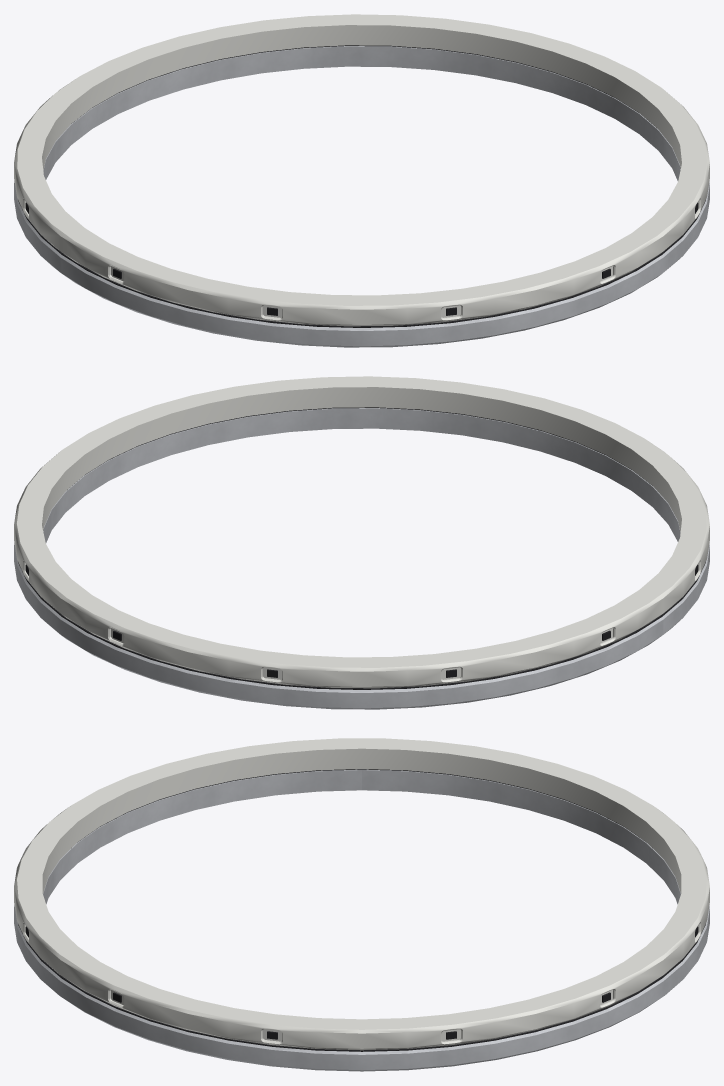
Rendered from ax_struct_06_stack_decoupler_xxl.glb.
3 views of the same model, one above another, from view 1: azimuth 30°, elevation 25°; view 2: azimuth 150°, elevation 25°; view 3: azimuth 270°, elevation 25° (orthographic).
Parts seen in each view (by area): view 1: decoupler_upper_ring, decoupler_lower_ring, separation_plane; view 2: decoupler_upper_ring, decoupler_lower_ring, separation_plane; view 3: decoupler_upper_ring, decoupler_lower_ring, separation_plane.
Part boxes in pixels (x1,y1,x2,y2): decoupler_upper_ring: (14,14,709,326); decoupler_lower_ring: (14,46,709,347); separation_plane: (18,45,705,327); decoupler_upper_ring: (14,376,709,688); decoupler_lower_ring: (14,408,709,709); separation_plane: (18,407,705,689); decoupler_upper_ring: (14,738,709,1050); decoupler_lower_ring: (14,769,709,1071); separation_plane: (18,769,705,1051).
Bounding box in the file's own units: 7.5 × 0.495 × 7.5.
Materials: 3 (1 with a texture image).
